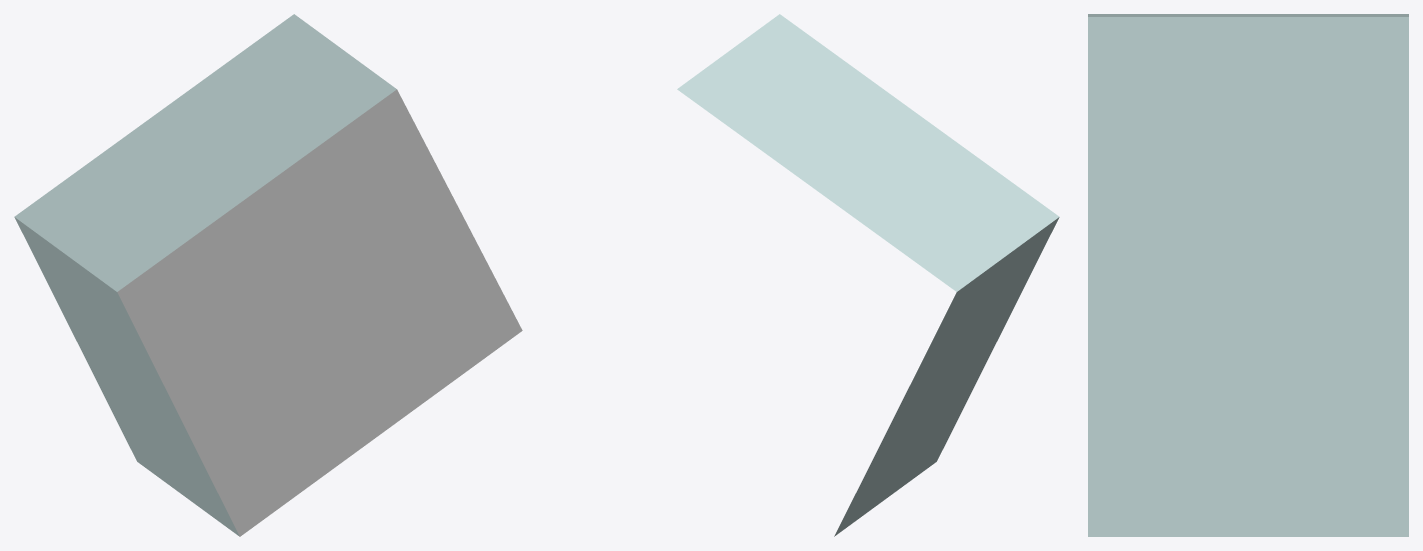
3 views of the same model, side by side, from view 1: azimuth 30°, elevation 25°; view 2: azimuth 150°, elevation 25°; view 3: azimuth 270°, elevation 25° (orthographic). The views are drawn at different scales.
Visible parts, largest first — view 1: 0_1_1_2_2_1_3_1_0; view 2: 0_1_1_2_2_1_3_1_0; view 3: 0_1_1_2_2_1_3_1_0.
Part boxes in pixels (x1=…): 0_1_1_2_2_1_3_1_0: x1=14, y1=14, x2=522, y2=536; 0_1_1_2_2_1_3_1_0: x1=677, y1=14, x2=1059, y2=536; 0_1_1_2_2_1_3_1_0: x1=1088, y1=14, x2=1408, y2=536.
Size of the model in its own units: 6.83 by 6.59 by 3.
